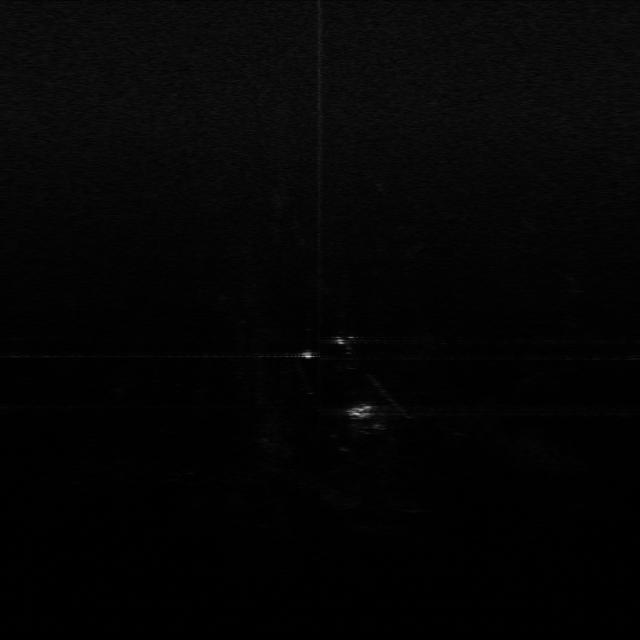rov: (343, 397, 379, 424)
